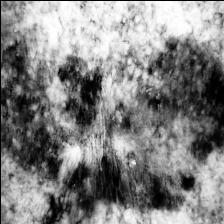Potentially Malignant Skin Tumors: (0, 53, 87, 141), (47, 153, 178, 207), (158, 52, 224, 142)
